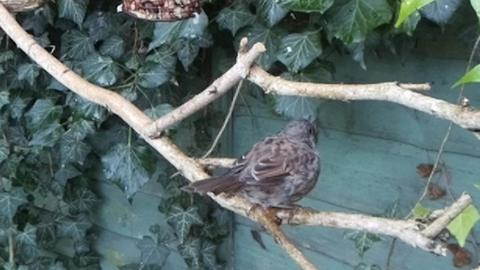dunnock: (180, 114, 321, 224)
